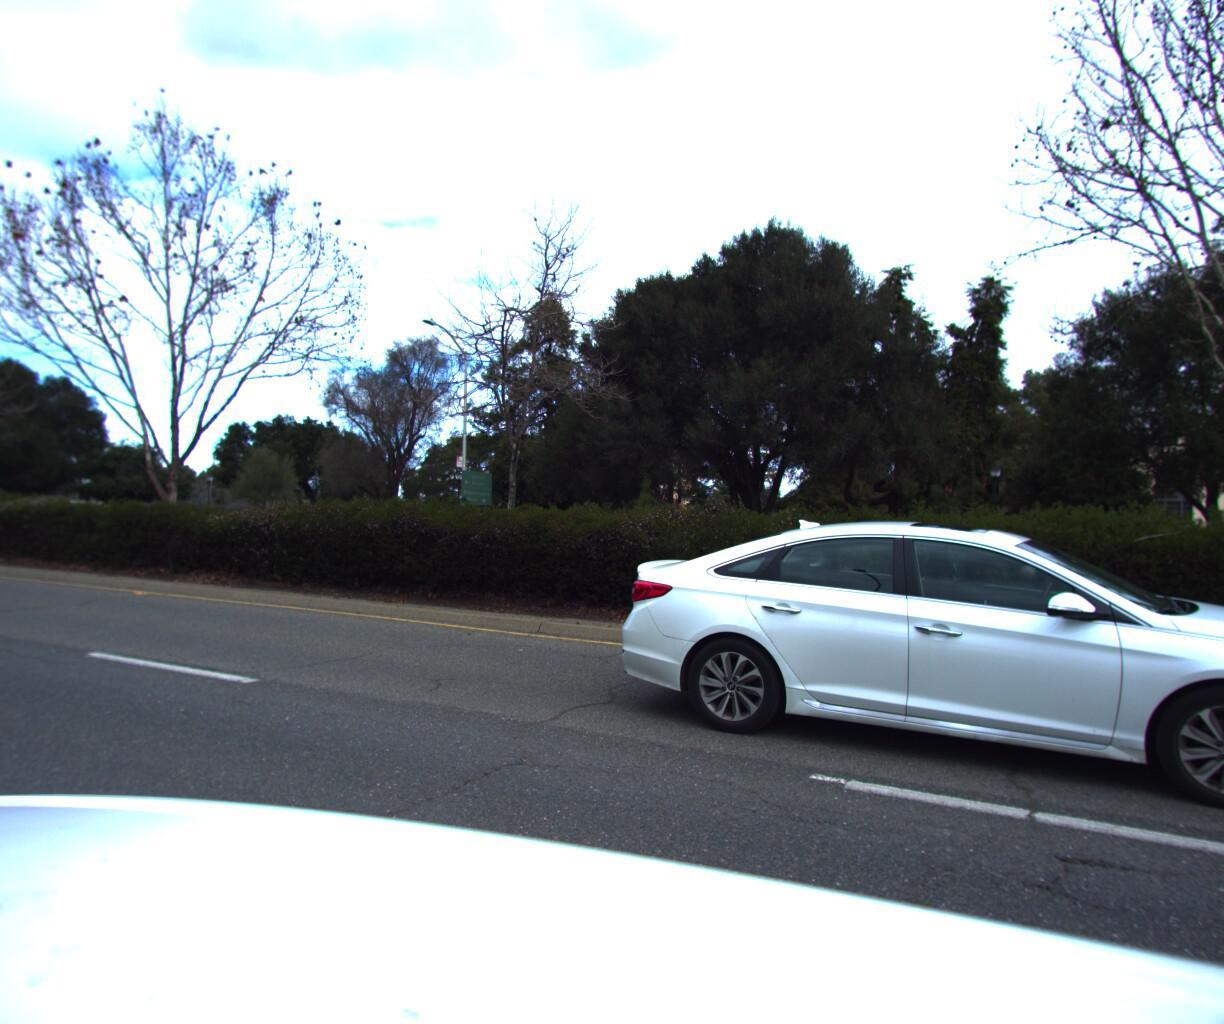car: (577, 506, 1224, 851)
